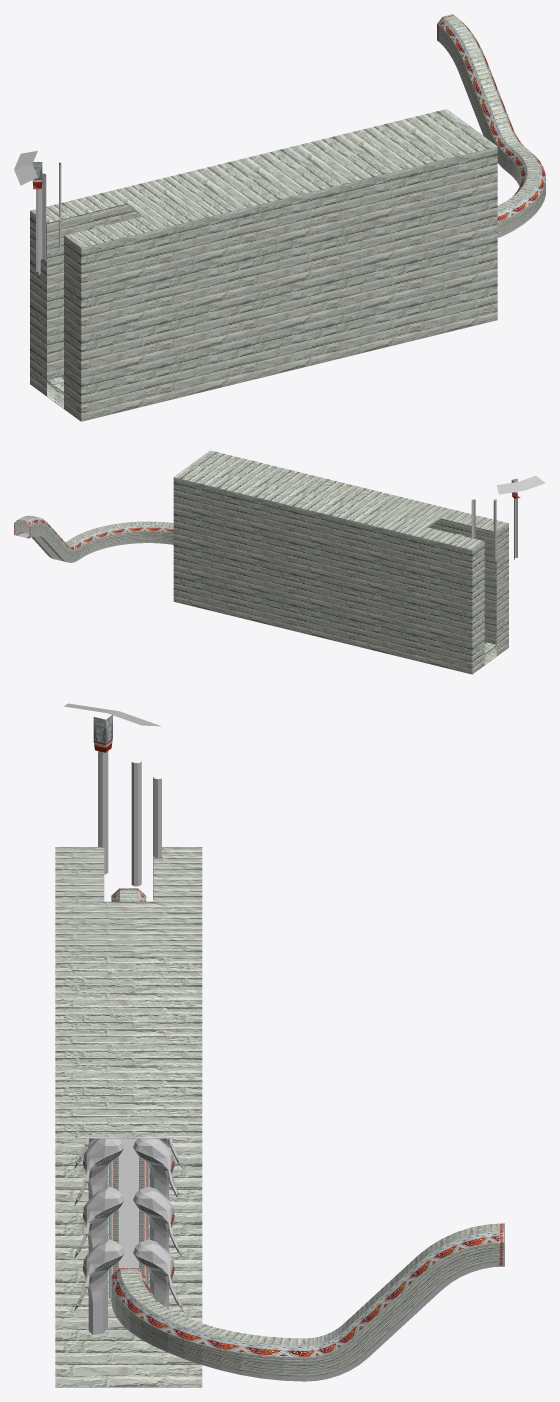
The model's file is Seaside_course3.obj.
The picture shows the model from 3 angles, top to bottom: view 1: azimuth 30°, elevation 25°; view 2: azimuth 150°, elevation 25°; view 3: azimuth 270°, elevation 25°; orthographic projection. The views are drawn at different scales.
Parts seen in each view (by area): view 1: Object_2; view 2: Object_2, obj1; view 3: Object_2, obj1.
Part boxes in pixels (x1,y1,x2,y2): Object_2: (14, 14, 545, 421); Object_2: (14, 450, 545, 674); obj1: (14, 532, 66, 562); Object_2: (55, 703, 504, 1387); obj1: (111, 1138, 146, 1274).
Bounding box in the file's own units: 5536 × 2260 × 2546.
